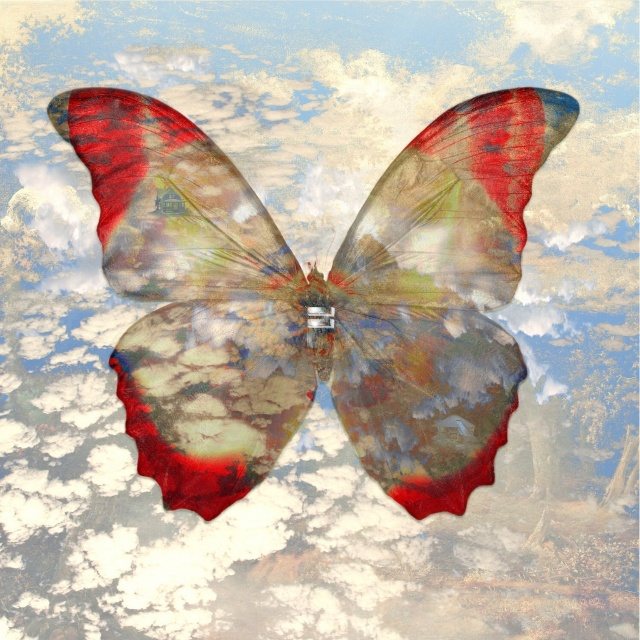Butterfly: (65, 72, 560, 524)
